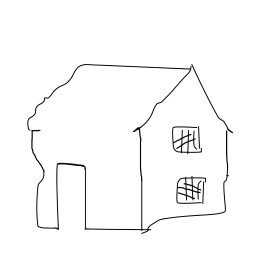closed_window: (169, 170, 209, 206), (165, 121, 207, 154)
door: (48, 152, 105, 234)
single_line_roof: (20, 48, 238, 138)
wall: (137, 60, 235, 236)
